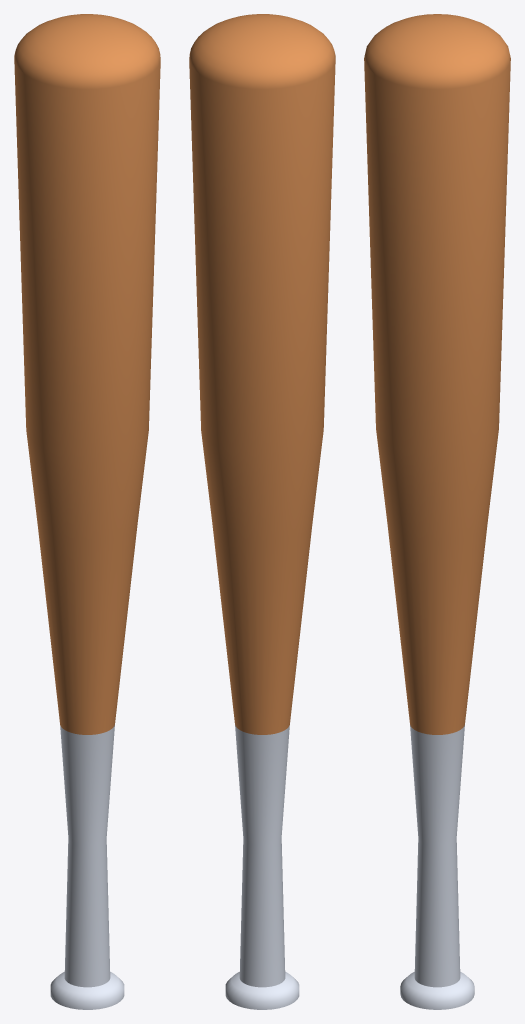
File: Gator Siege_bat.fbx
3 renders of one model, left to right at view 1: azimuth 30°, elevation 25°; view 2: azimuth 150°, elevation 25°; view 3: azimuth 270°, elevation 25°, orthographic.
Visible parts, largest first — view 1: bat; view 2: bat; view 3: bat.
Part boxes in pixels (left/top/right/bottom): bat: left=14, top=14, right=160, bottom=1009; bat: left=189, top=14, right=335, bottom=1009; bat: left=364, top=14, right=510, bottom=1009.
Size of the model in its own units: 0.0303 by 0.0303 by 0.2201.
